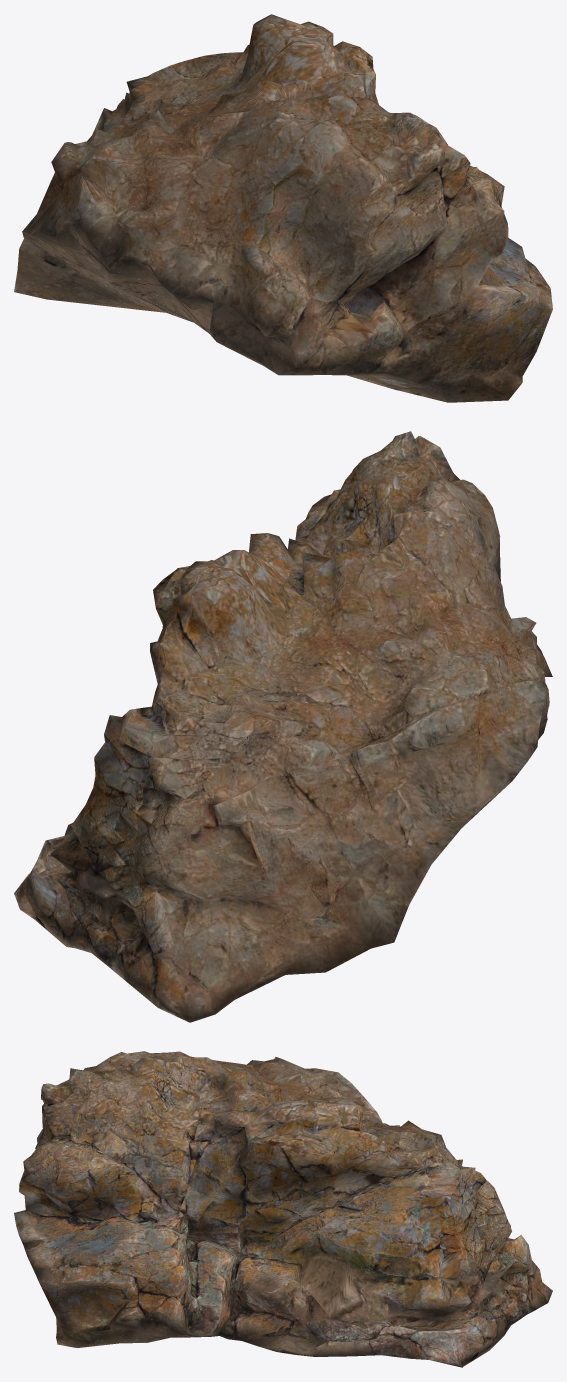
3 renders of one model, top to bottom at view 1: azimuth 30°, elevation 25°; view 2: azimuth 150°, elevation 25°; view 3: azimuth 270°, elevation 25°, orthographic. The views are drawn at different scales.
Visible parts, largest first — view 1: boulder_01; view 2: boulder_01; view 3: boulder_01.
Part boxes in pixels (x1=…): boulder_01: x1=14, y1=14, x2=552, y2=402; boulder_01: x1=14, y1=431, x2=552, y2=1022; boulder_01: x1=14, y1=1051, x2=552, y2=1367.
Bounding box in the file's own units: 1.28 × 0.9959 × 1.83.
1 material, 1 textured.
